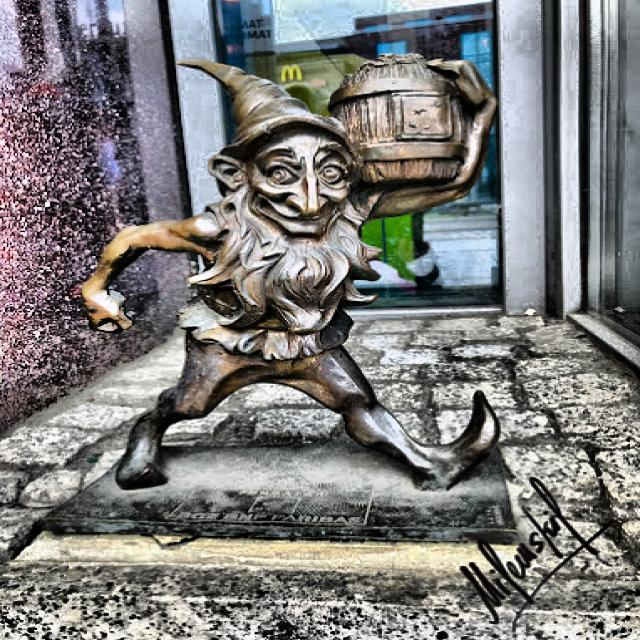Leprykonus: (66, 45, 508, 498)
